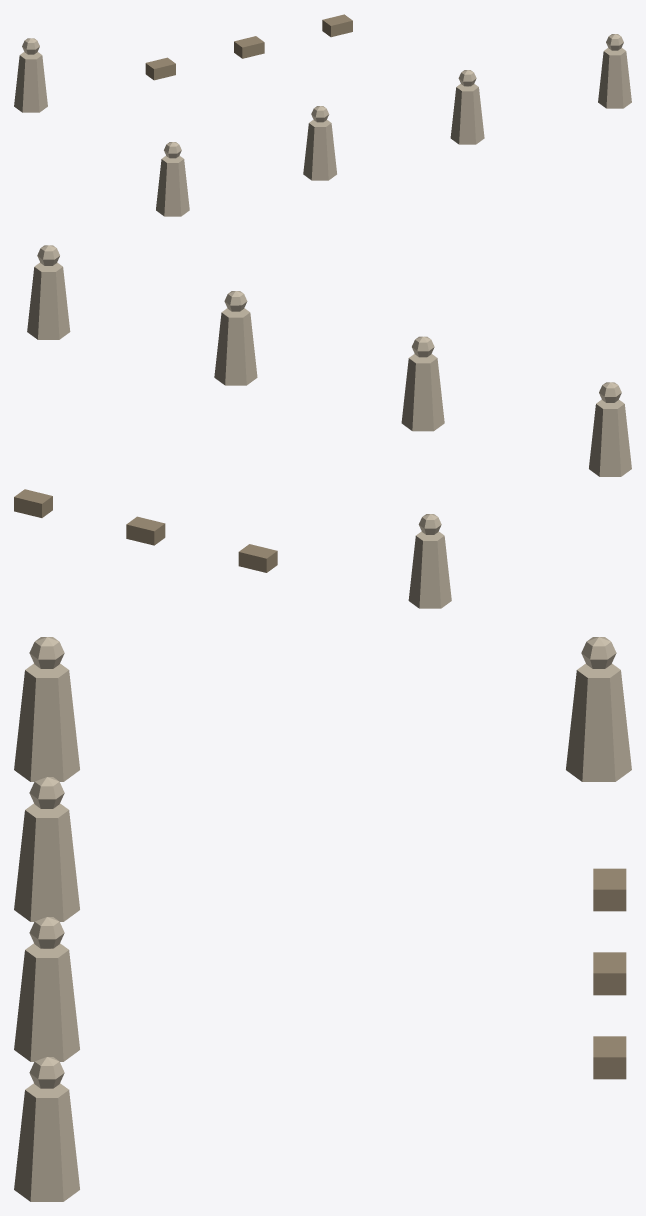
Rendered from chavin_pilgrims_lod1.glb.
3 views of the same model, one above another, from view 1: azimuth 30°, elevation 25°; view 2: azimuth 150°, elevation 25°; view 3: azimuth 270°, elevation 25° (orthographic). The views are drawn at different scales.
Parts seen in each view (by area): view 1: chavin_pilgrims; view 2: chavin_pilgrims; view 3: chavin_pilgrims.
Part boxes in pixels (left/top/right/bottom): chavin_pilgrims: left=14, top=14, right=631, bottom=216; chavin_pilgrims: left=14, top=245, right=631, bottom=608; chavin_pilgrims: left=14, top=637, right=631, bottom=1201.
Size of the model in its own units: 9.52 by 1.38 by 5.6.
